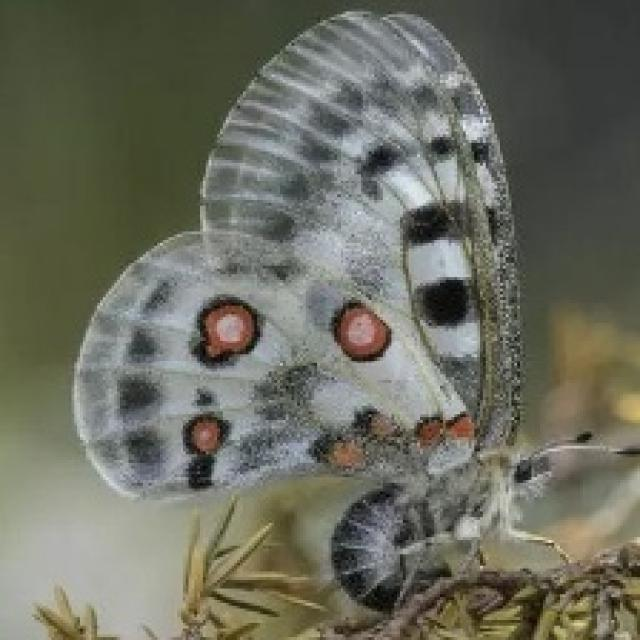butterfly: (69, 6, 637, 623)
